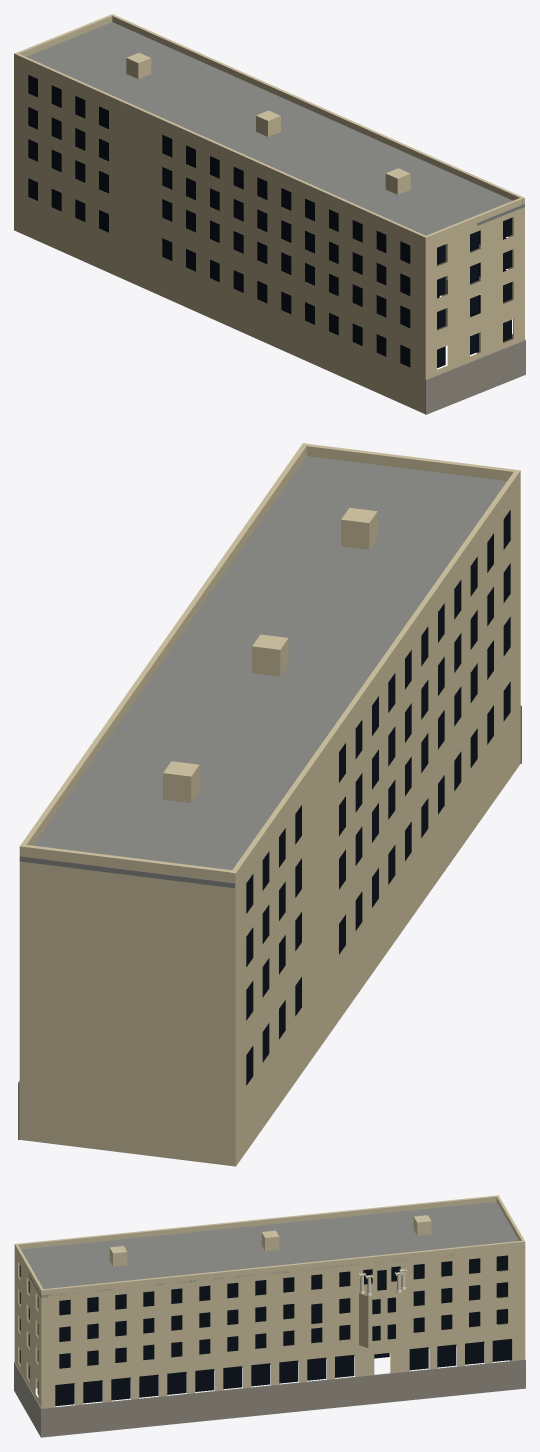
File: bmorskaya48.lod.glb
3 views of the same model, one above another, from view 1: azimuth 30°, elevation 25°; view 2: azimuth 150°, elevation 25°; view 3: azimuth 270°, elevation 25° (orthographic). The views are drawn at different scales.
Visible parts, largest first — view 1: bmorskaya48_wall, bmorskaya48_roof, bmorskaya48_glass, bmorskaya48_stone; view 2: bmorskaya48_wall, bmorskaya48_roof, bmorskaya48_glass; view 3: bmorskaya48_wall, bmorskaya48_roof, bmorskaya48_glass, bmorskaya48_stone, bmorskaya48_trim_s.
Boxes of the visible parts, box(x1,y1,x2,y2) form: bmorskaya48_wall: box(14, 14, 524, 413); bmorskaya48_roof: box(26, 22, 524, 235); bmorskaya48_glass: box(28, 75, 511, 368); bmorskaya48_stone: box(425, 334, 525, 414); bmorskaya48_wall: box(19, 443, 520, 1166); bmorskaya48_roof: box(19, 456, 506, 888); bmorskaya48_glass: box(246, 510, 510, 1085); bmorskaya48_wall: box(14, 1195, 525, 1408); bmorskaya48_roof: box(21, 1201, 524, 1297); bmorskaya48_glass: box(19, 1255, 511, 1406); bmorskaya48_stone: box(14, 1359, 525, 1437); bmorskaya48_trim_s: box(358, 1268, 407, 1295).
Bounding box in the file's own units: 24.6 × 18.6 × 55.66.
